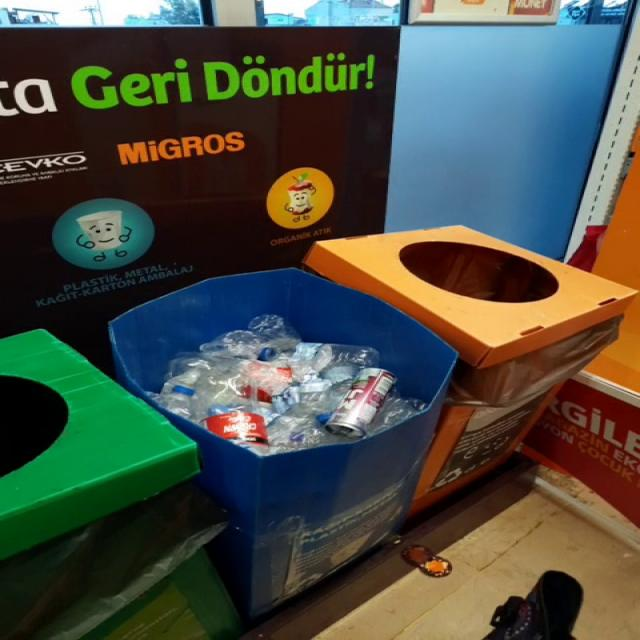bin: (109, 268, 459, 619), (308, 226, 637, 368)
metal: (325, 368, 397, 438)
